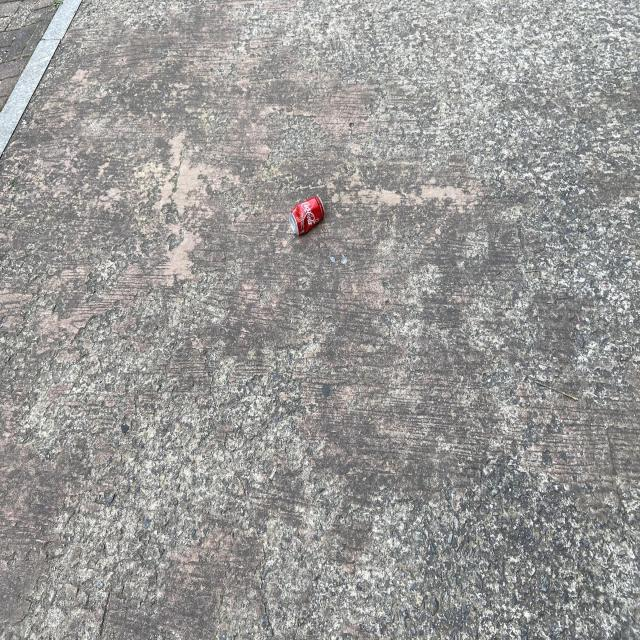can: (289, 196, 324, 234)
